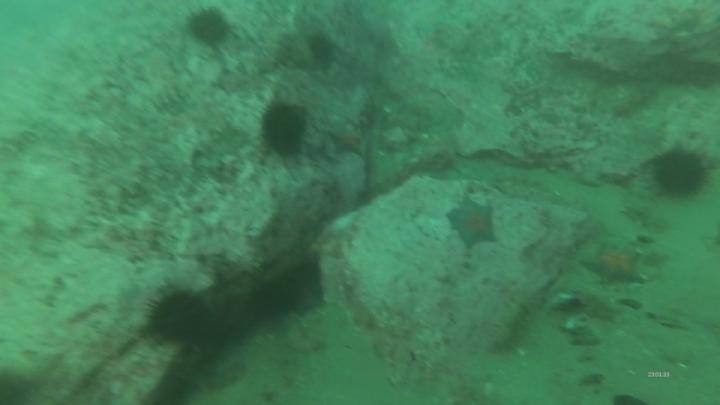echinus: (144, 286, 214, 347), (648, 145, 711, 201), (258, 100, 310, 159), (247, 275, 303, 323), (184, 5, 233, 49), (304, 31, 339, 69)
holothurian: (488, 291, 535, 355)
starfish: (578, 242, 647, 287), (445, 196, 500, 251), (327, 123, 366, 158)
